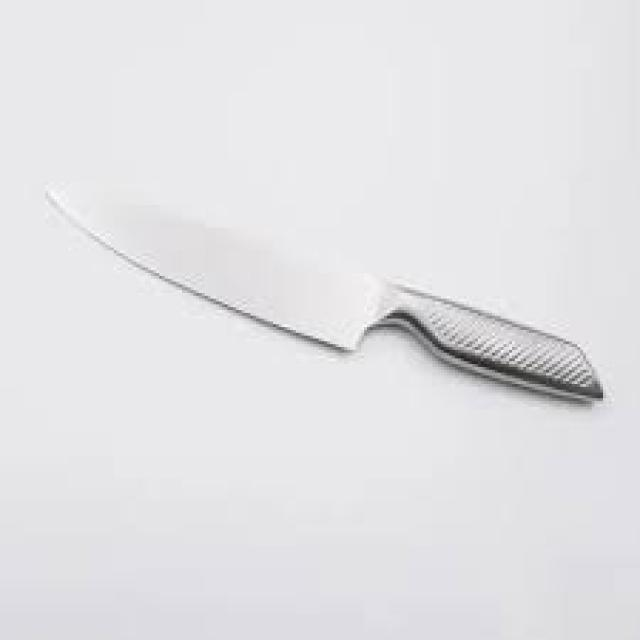Knife: (43, 179, 603, 404)
